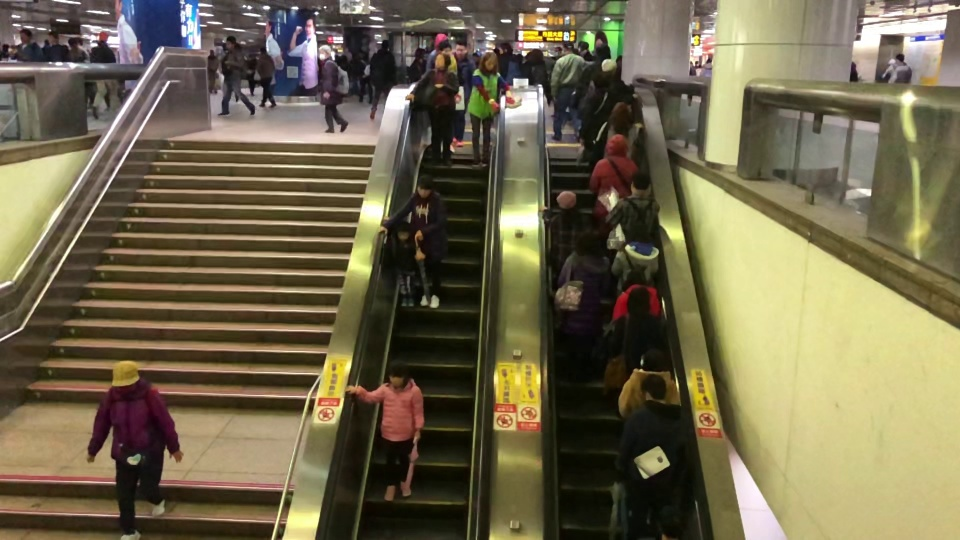person_head: (654, 502, 692, 540), (109, 359, 141, 395), (641, 372, 669, 404), (573, 227, 601, 256), (625, 285, 652, 314), (628, 168, 652, 197), (604, 132, 631, 157), (638, 348, 666, 372), (387, 359, 407, 388), (609, 100, 631, 126), (621, 267, 646, 289), (415, 172, 434, 199), (627, 220, 648, 244), (556, 189, 577, 210), (479, 51, 497, 75), (600, 57, 618, 76), (593, 72, 611, 90), (396, 219, 410, 241), (434, 53, 452, 70), (18, 27, 33, 45), (595, 45, 611, 61), (318, 43, 332, 61), (455, 40, 468, 59), (438, 41, 452, 56), (560, 40, 574, 55), (47, 30, 60, 46), (529, 47, 543, 61), (498, 42, 513, 55), (413, 46, 426, 60), (97, 30, 109, 45), (225, 35, 237, 50), (380, 38, 391, 51), (67, 38, 79, 49), (894, 52, 905, 64), (207, 47, 215, 57), (555, 45, 562, 55), (259, 47, 267, 55)
person_vbox: (84, 357, 185, 540), (614, 373, 696, 537), (343, 354, 425, 501), (379, 175, 448, 309), (555, 227, 610, 382), (405, 53, 459, 166), (463, 52, 515, 167), (588, 133, 640, 233), (603, 167, 660, 251), (577, 72, 639, 148), (617, 347, 680, 420), (610, 287, 667, 367), (610, 221, 660, 297), (539, 189, 585, 270), (216, 35, 256, 121), (591, 100, 644, 163), (551, 41, 584, 142), (381, 215, 417, 307), (316, 43, 349, 135), (66, 37, 100, 121), (571, 43, 612, 109), (451, 40, 476, 148), (612, 268, 661, 322), (369, 37, 399, 122), (586, 58, 635, 96), (256, 46, 277, 109), (495, 41, 522, 86), (9, 27, 43, 62), (520, 50, 547, 87), (89, 30, 116, 64), (41, 31, 71, 61), (887, 53, 912, 84), (407, 47, 428, 82), (206, 47, 219, 95)
